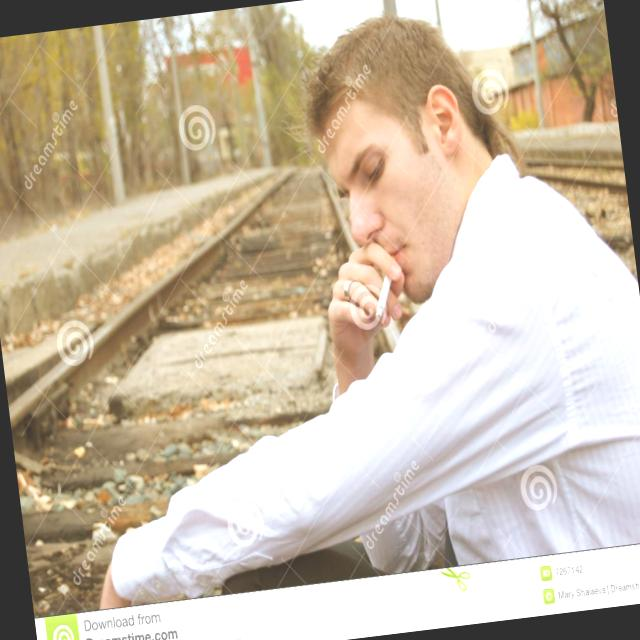cigarette: (356, 252, 416, 351)
